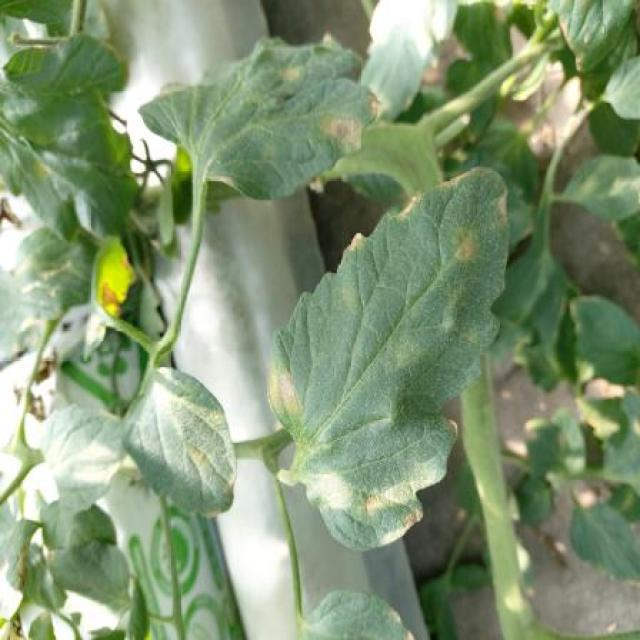Leaf Mold: (267, 165, 509, 552), (136, 36, 381, 204), (128, 363, 239, 518)
